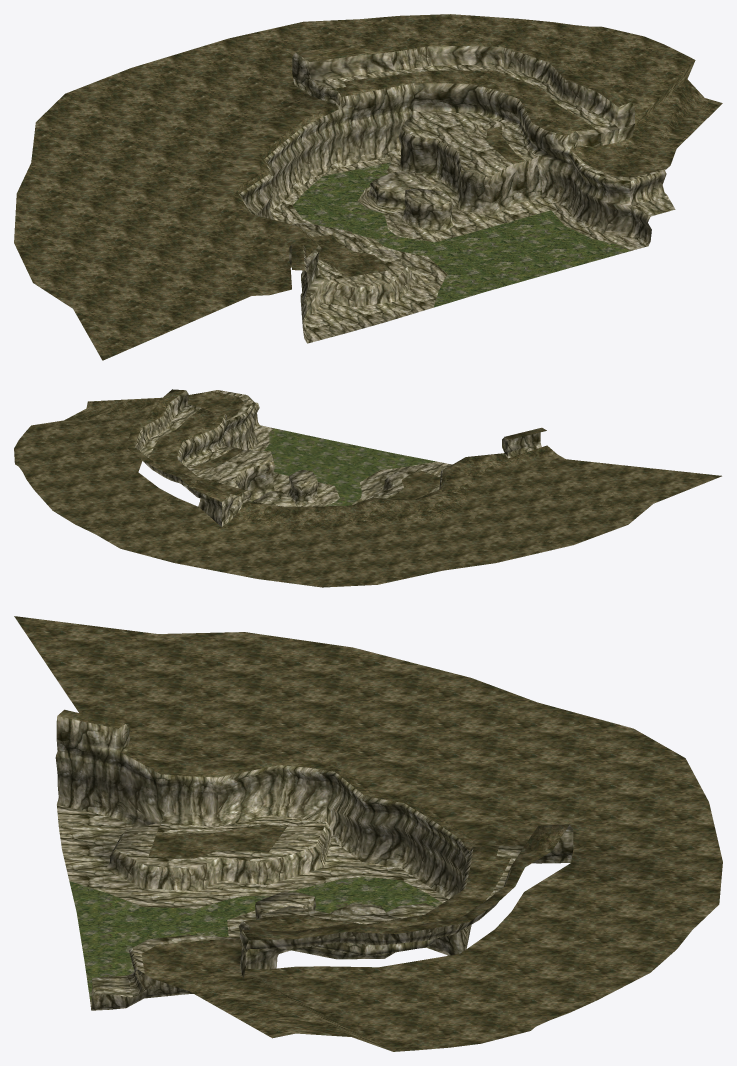
File: CB_NEWPLAYSURFACE_OBJECT07.fbx
3 views of the same model, one above another, from view 1: azimuth 30°, elevation 25°; view 2: azimuth 150°, elevation 25°; view 3: azimuth 270°, elevation 25° (orthographic). The views are drawn at different scales.
Visible parts, largest first — view 1: CB_NEWPLAYSURFACE_OBJECT07; view 2: CB_NEWPLAYSURFACE_OBJECT07; view 3: CB_NEWPLAYSURFACE_OBJECT07.
Part boxes in pixels (x1=…): CB_NEWPLAYSURFACE_OBJECT07: x1=14, y1=14, x2=722, y2=360; CB_NEWPLAYSURFACE_OBJECT07: x1=14, y1=389, x2=721, y2=587; CB_NEWPLAYSURFACE_OBJECT07: x1=14, y1=616, x2=722, y2=1051.
Size of the model in its own units: 1087672 by 116649 by 747600.
Materials: 4 (4 with a texture image).
